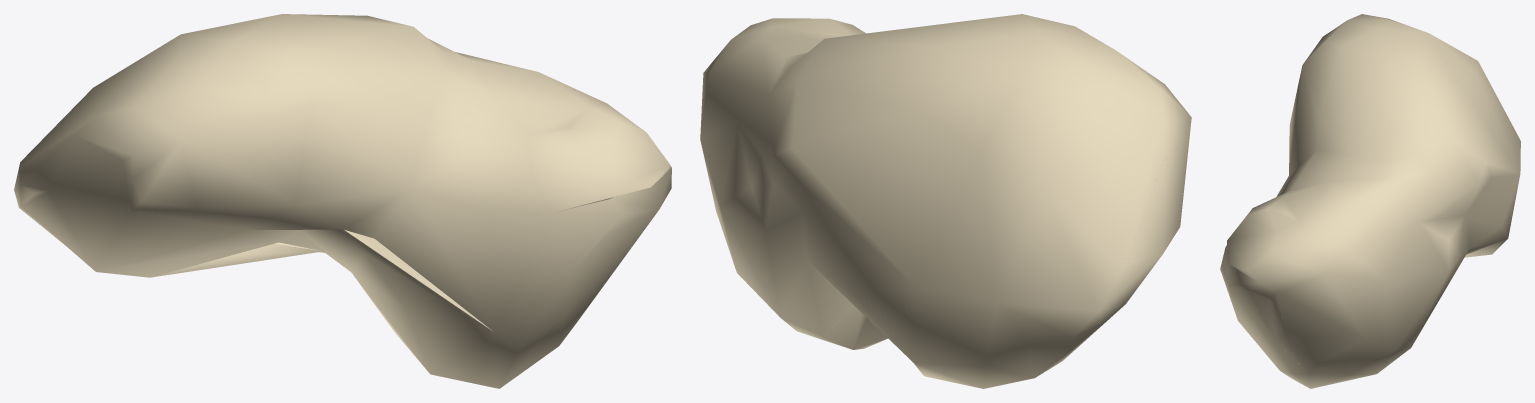
Rendered from esqueleto-scaphoid-bone-l.glb.
The picture shows the model from 3 angles, left to right: view 1: azimuth 30°, elevation 25°; view 2: azimuth 150°, elevation 25°; view 3: azimuth 270°, elevation 25°; orthographic projection. The views are drawn at different scales.
Visible parts, largest first — view 1: Scaphoid bone.l; view 2: Scaphoid bone.l; view 3: Scaphoid bone.l.
Part boxes in pixels (<box>): Scaphoid bone.l: <box>14,14,671,388</box>; Scaphoid bone.l: <box>700,14,1191,388</box>; Scaphoid bone.l: <box>1220,14,1520,388</box>.
Bounding box in the file's own units: 0.0245 × 0.0162 × 0.0159.
